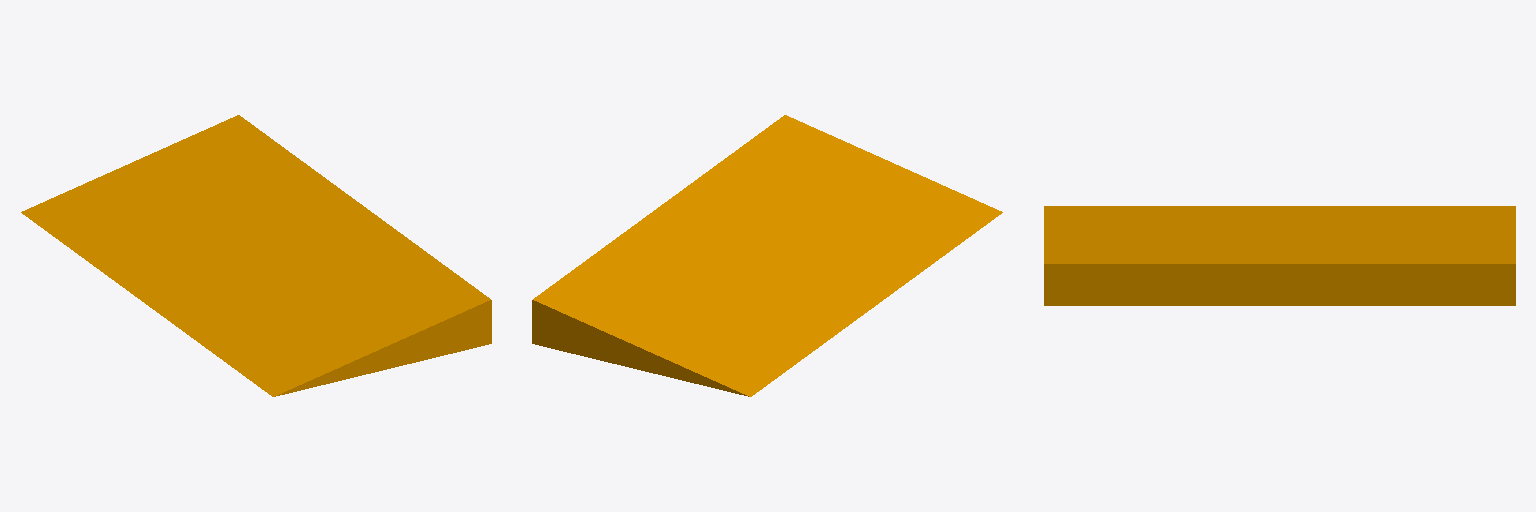
robot.urdf — wedge_11:
<?xml version="1.0" ?>
<robot name="wedge_11">
  <link name="wedge_11__link_2">
    <inertial>
      <mass value="1"/>
      <origin rpy="0      0     -1.5708" xyz="0 0 0"/>
      <inertia ixx="0.166667" ixy="0" ixz="0" iyy="0.166667" iyz="0" izz="0.166667"/>
    </inertial>
    <collision name="wedge_11__collision">
      <origin rpy="0      0     -1.5708" xyz="0 0 0"/>
      <geometry>
        <mesh filename="package://wedge_11/wedge_11.stl" scale="1 1 1"/>
      </geometry>
    </collision>
    <visual name="wedge_11__visual">
      <origin rpy="0      0     -1.5708" xyz="0 0 0"/>
      <geometry>
        <mesh filename="package://wedge_11/wedge_11.stl" scale="1 1 1"/>
      </geometry>
    </visual>
  </link>
</robot>

--- What the picture shows (computed from the rendered views, not written in the file) ---
Views: 3 orthographic renders of the robot side by side, from view 1: azimuth 30°, elevation 25°; view 2: azimuth 150°, elevation 25°; view 3: azimuth 270°, elevation 25°.
Model wedge_11 with 1 links and 0 joints (none), rooted at wedge_11__link_2, posed every joint at zero.
Links seen in each view (by area): view 1: wedge_11__link_2; view 2: wedge_11__link_2; view 3: wedge_11__link_2.
Boxes of the visible links, box(x1,y1,x2,y2) form: wedge_11__link_2: box(21, 115, 491, 396); wedge_11__link_2: box(532, 115, 1002, 396); wedge_11__link_2: box(1044, 206, 1515, 305).
Size in the robot's own frame: 1.5 by 3.01 by 0.291 metres.
1 mesh visuals loaded from 1 distinct referenced files (1 binary STL).